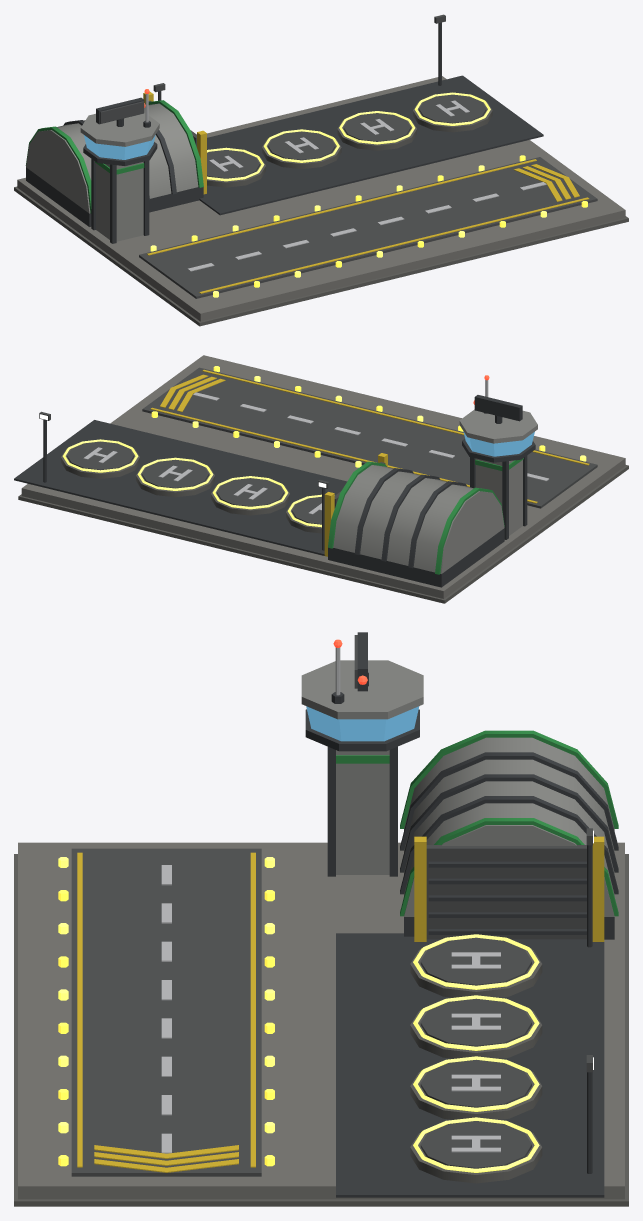
File: airfield_lod1.glb
The picture shows the model from 3 angles, top to bottom: view 1: azimuth 30°, elevation 25°; view 2: azimuth 150°, elevation 25°; view 3: azimuth 270°, elevation 25°; orthographic projection. The views are drawn at different scales.
Parts seen in each view (by area): view 1: Airfield_LOD1_Foundation, Airfield_LOD1_Walls, Airfield_LOD1_Details, Airfield_LOD1_Frame, Airfield_LOD1_spin; view 2: Airfield_LOD1_Foundation, Airfield_LOD1_Walls, Airfield_LOD1_Details, Airfield_LOD1_Frame, Airfield_LOD1_spin; view 3: Airfield_LOD1_Foundation, Airfield_LOD1_Walls, Airfield_LOD1_Details, Airfield_LOD1_Frame, Airfield_LOD1_spin.
Boxes of the visible parts, left/top/right/bottom form: Airfield_LOD1_Foundation: left=14, top=75, right=628, bottom=326; Airfield_LOD1_Walls: left=26, top=100, right=198, bottom=241; Airfield_LOD1_Details: left=95, top=14, right=589, bottom=297; Airfield_LOD1_Frame: left=25, top=100, right=203, bottom=243; Airfield_LOD1_spin: left=96, top=97, right=145, bottom=124; Airfield_LOD1_Foundation: left=14, top=355, right=628, bottom=603; Airfield_LOD1_Walls: left=333, top=409, right=537, bottom=573; Airfield_LOD1_Details: left=39, top=366, right=589, bottom=556; Airfield_LOD1_Frame: left=328, top=439, right=535, bottom=587; Airfield_LOD1_spin: left=473, top=395, right=522, bottom=421; Airfield_LOD1_Foundation: left=14, top=842, right=628, bottom=1206; Airfield_LOD1_Walls: left=301, top=660, right=614, bottom=939; Airfield_LOD1_Details: left=58, top=639, right=604, bottom=1173; Airfield_LOD1_Frame: left=305, top=709, right=618, bottom=939; Airfield_LOD1_spin: left=354, top=632, right=367, bottom=691.
Bounding box in the file's own units: 4.15 × 1.37 × 2.98.
